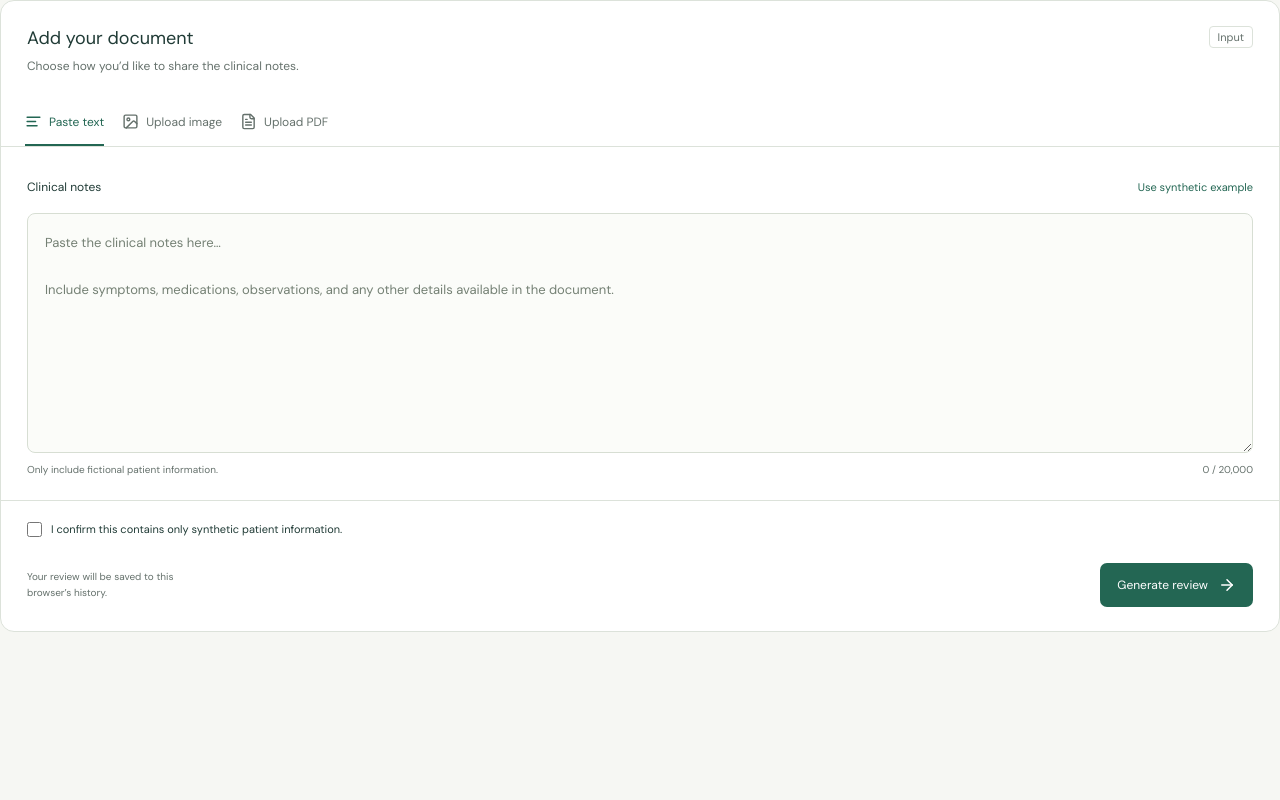
Test case: Input failure recovery › shows the server failure and allows retry
Click the button "Use synthetic example": {"x": 1195, "y": 187} [1138,171,1253,203]
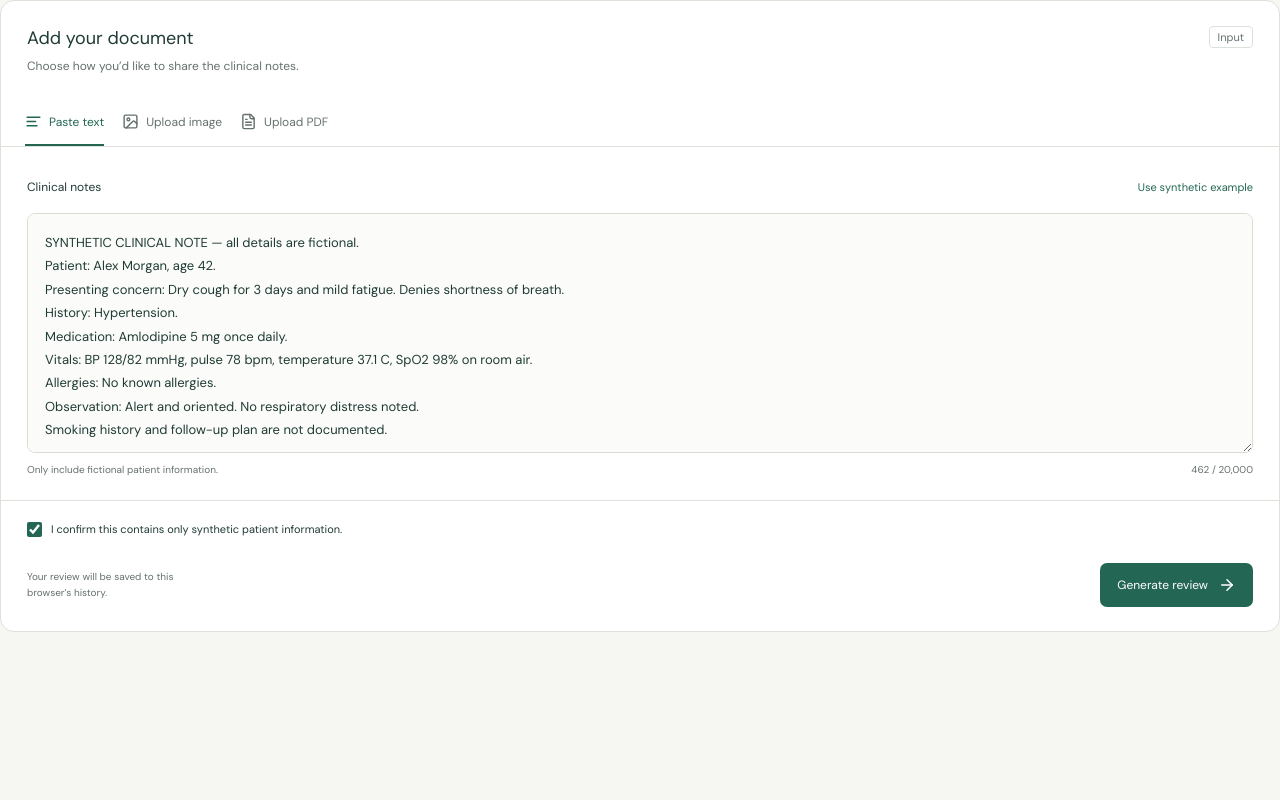
Click the button "Generate review": {"x": 1177, "y": 585} [1100,563,1253,607]
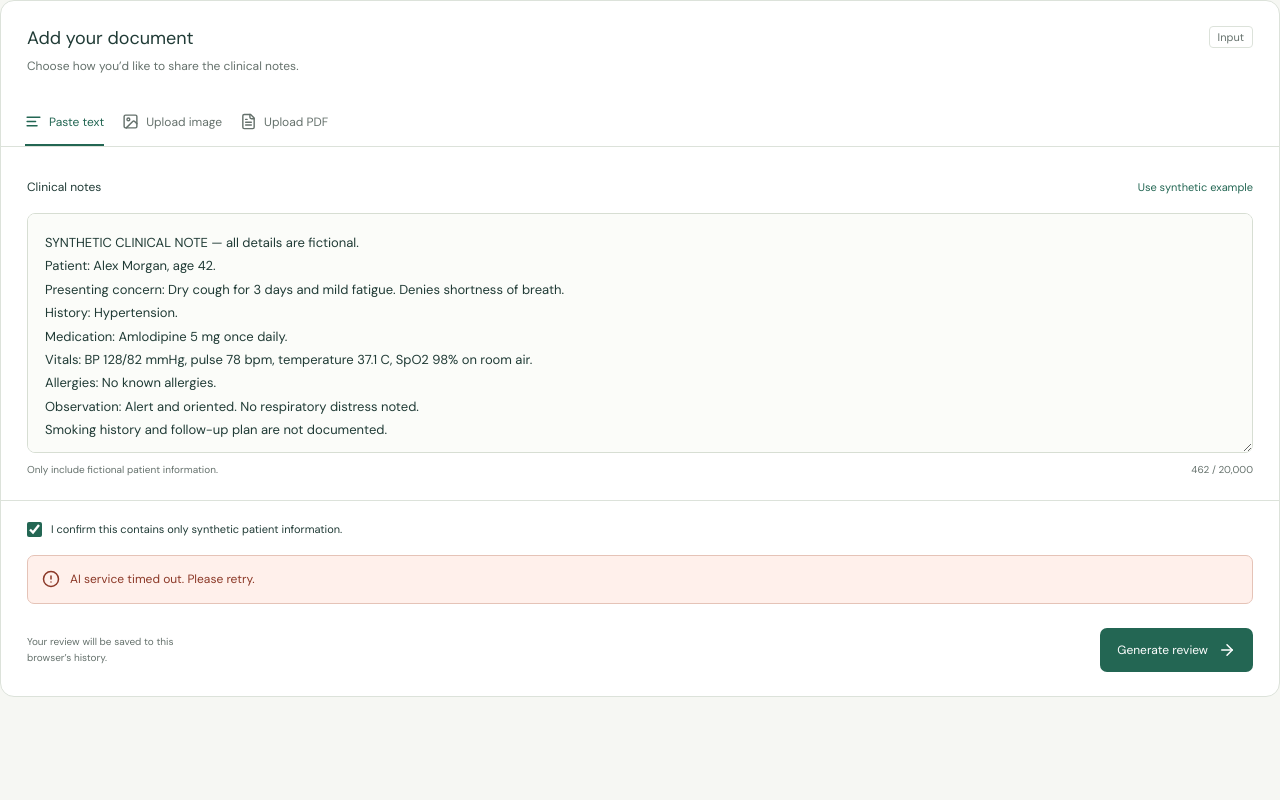
Expected: the button "Generate review" is enabled, [1100,628,1253,672]
Now the message shows "AI service timed out", box [70,571,255,587]
